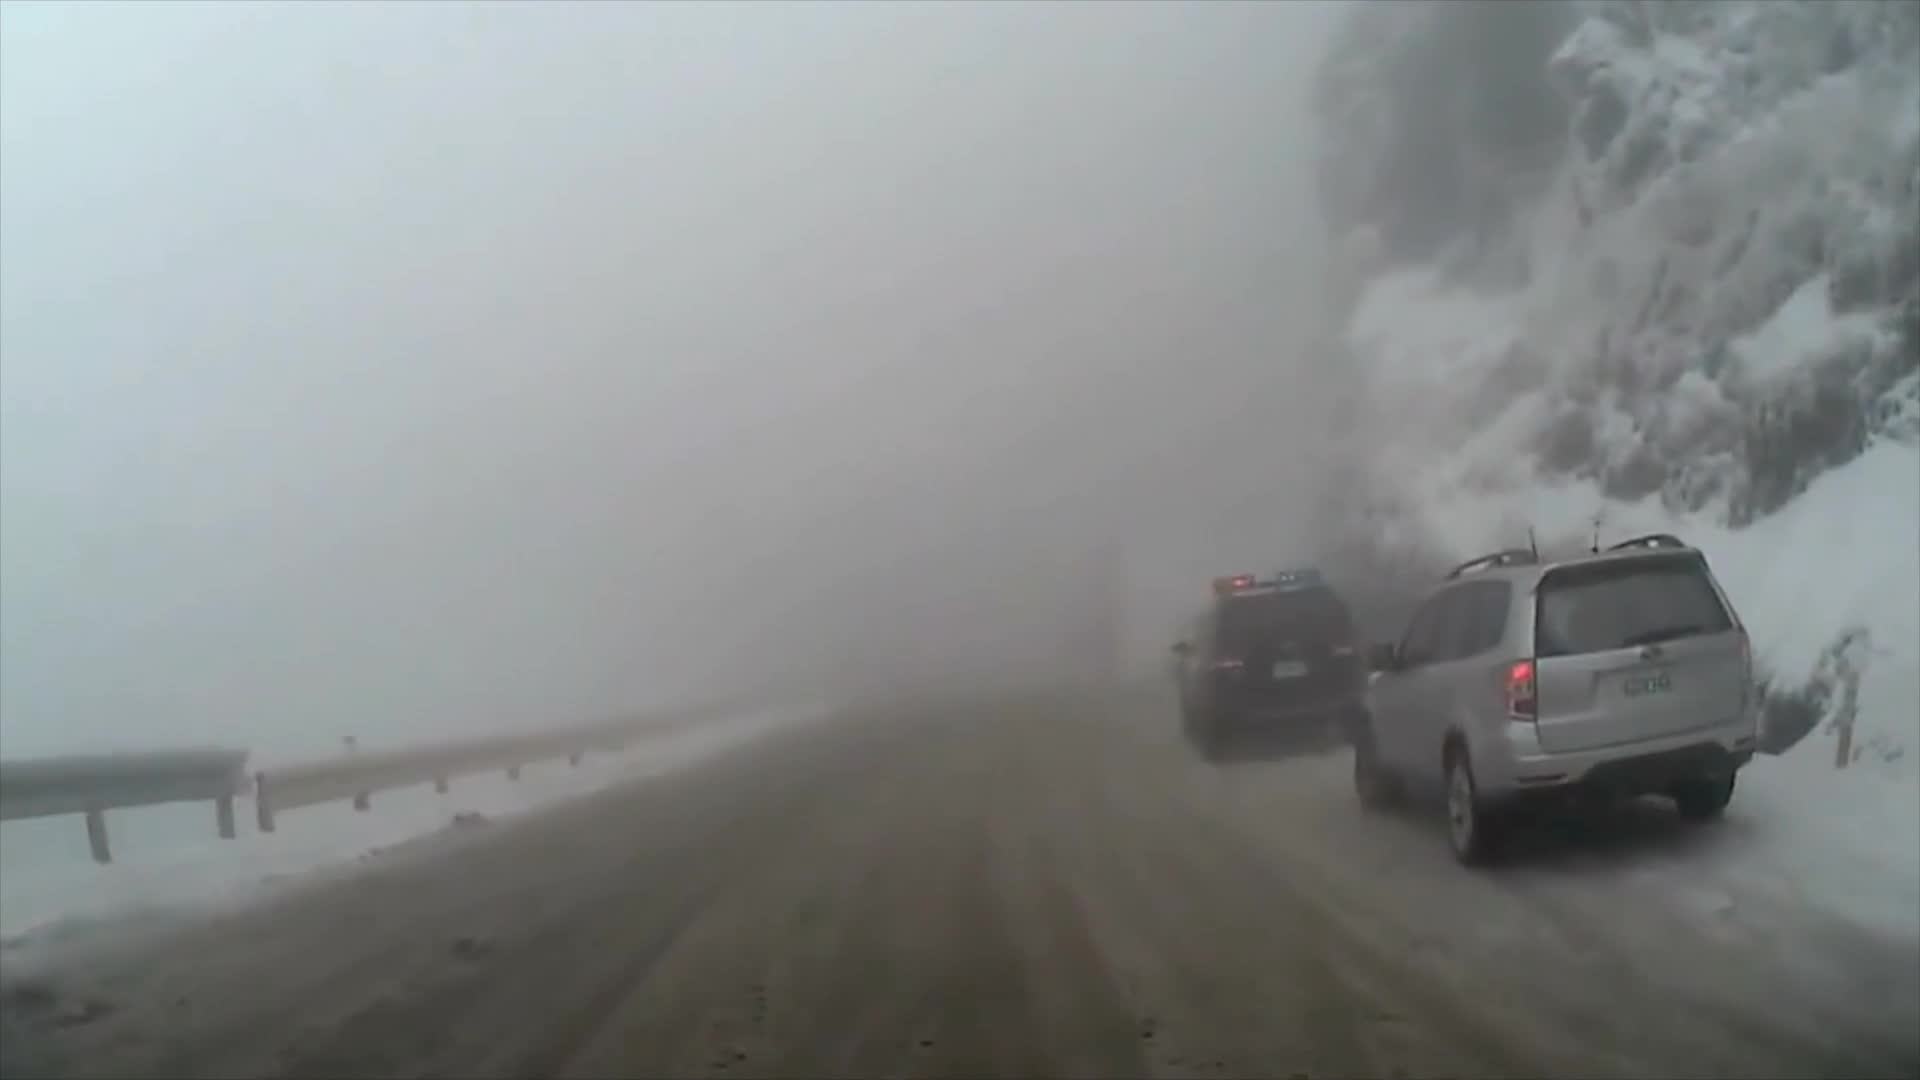vehicle: (1352, 527, 1767, 862), (1168, 556, 1371, 753)
